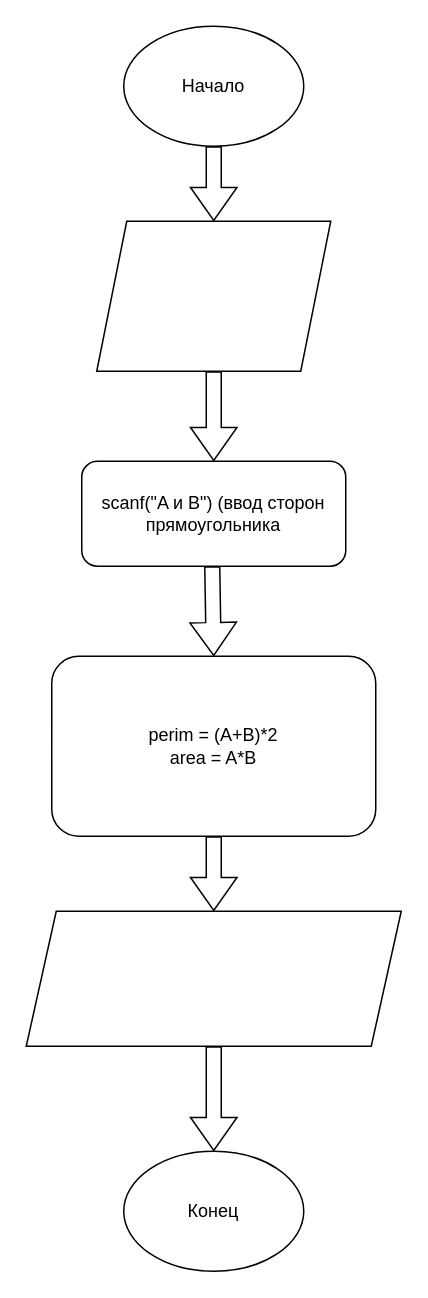
Some shapes in this 428 by 1298 pixel diagram are drawn without their labels. Each missing label, with the centre of its shape:
A, B, perim, area(стороны прямоугольника, его периметр и площадь): point (213, 295)
printf("perim и area") (вывод результатов расчета периметра и площади): point (213, 978)
